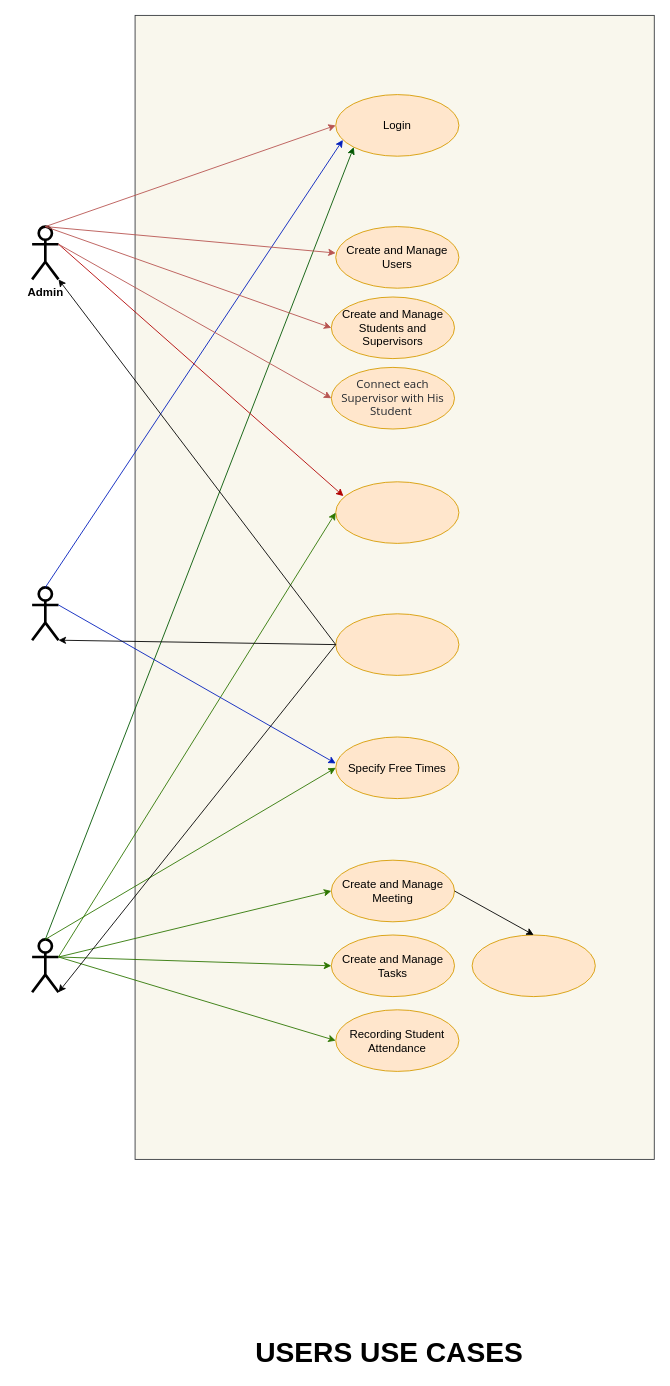
This 670x1386 diagram has some shape labels left out. The box of each missing label's shape, as (x1, y1, x2, y2) in pixels:
Coordinate Meeting: (471, 934, 595, 997)
Send Alert And Wrrning: (335, 613, 459, 675)
Show Students Activities: (335, 481, 459, 543)
Student: (30, 586, 59, 641)
Supervisor: (30, 938, 59, 993)
